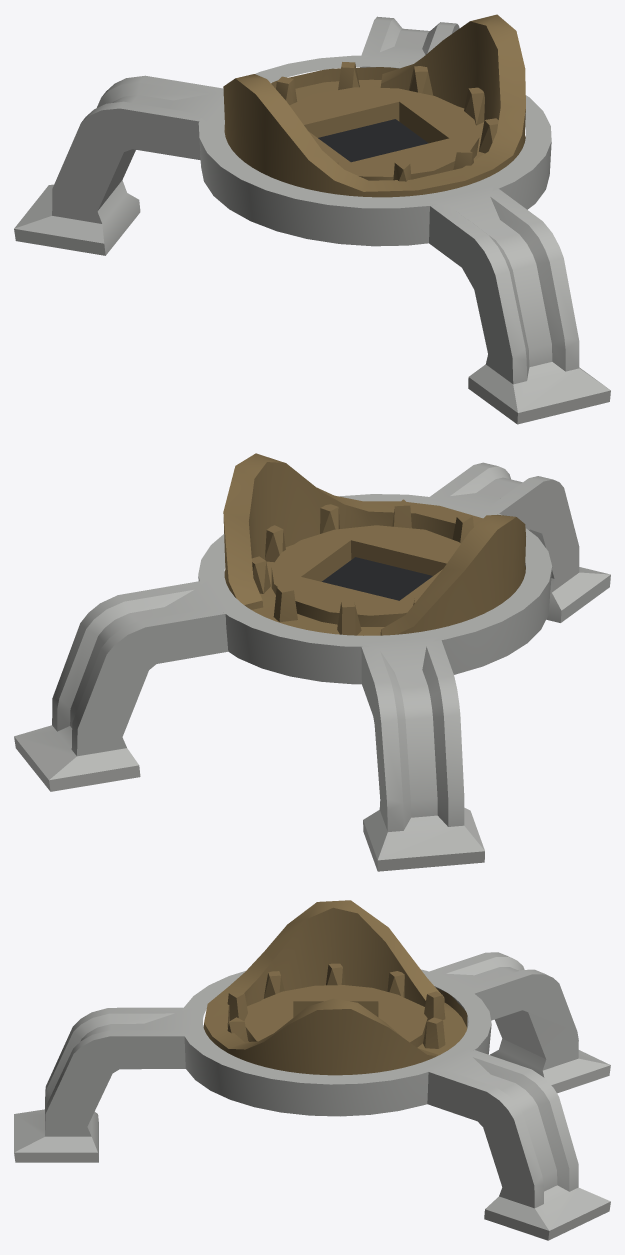
The model's file is stack-inserter-south.glb.
The picture shows the model from 3 angles, top to bottom: view 1: azimuth 30°, elevation 25°; view 2: azimuth 150°, elevation 25°; view 3: azimuth 270°, elevation 25°; orthographic projection. The views are drawn at different scales.
Parts seen in each view (by area): view 1: body; view 2: body; view 3: body.
Part boxes in pixels (left/top/right/bottom): body: left=14, top=14, right=610, bottom=424; body: left=14, top=453, right=610, bottom=871; body: left=14, top=900, right=610, bottom=1240.
Size of the model in its own units: 0.9131 by 0.415 by 1.18.
